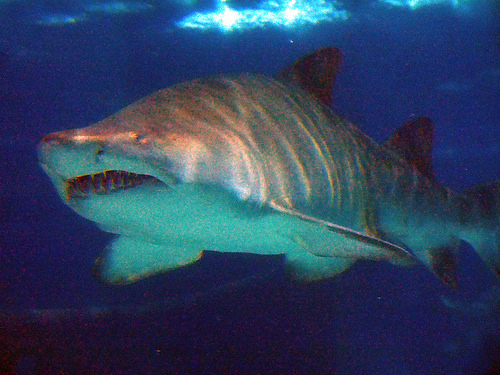shark: (21, 26, 492, 313)
